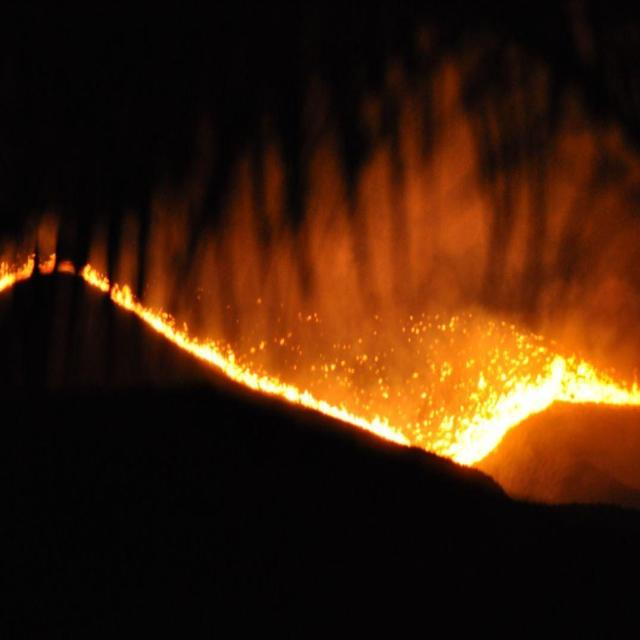Fire: (8, 245, 408, 459), (449, 306, 638, 482)
